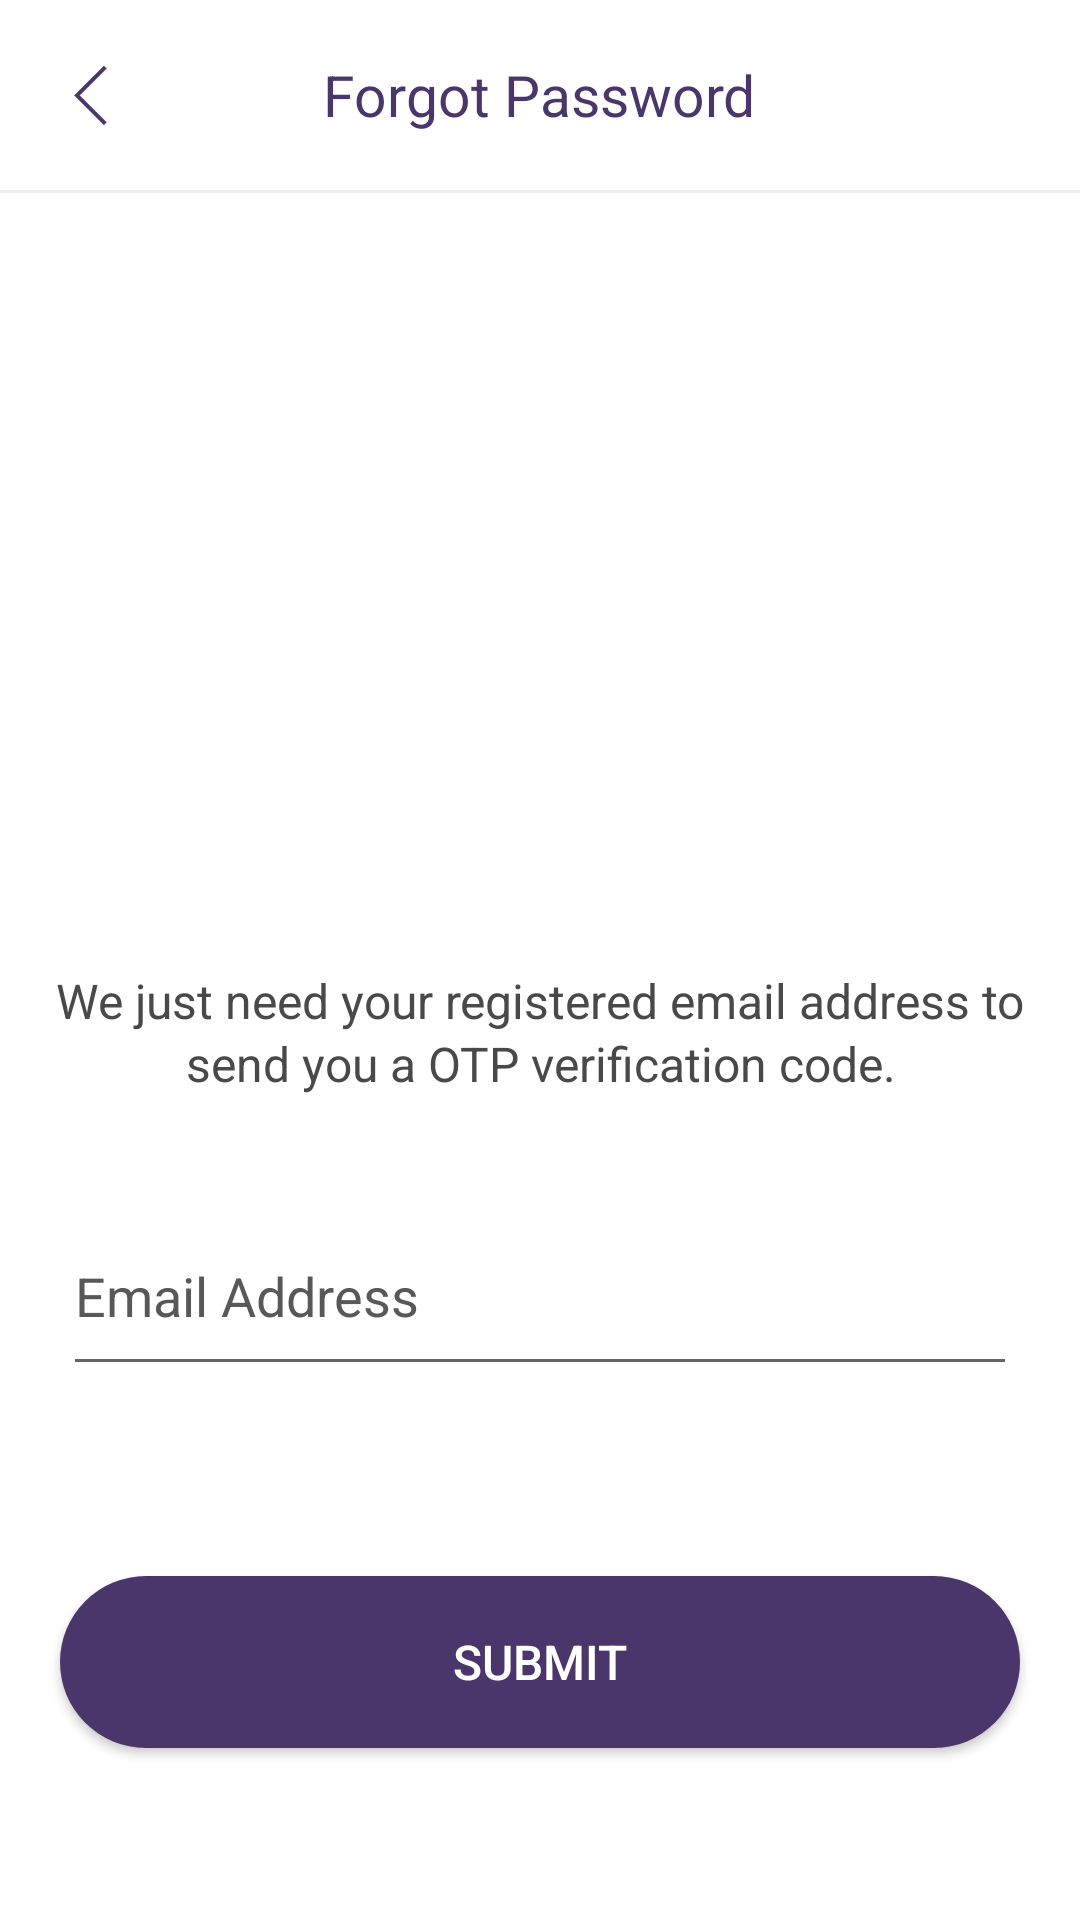

Icons on this 1080x1920 Android screen, each with its box as (x1, y1, x2, y2):
backbutton: (74, 66, 107, 125)
